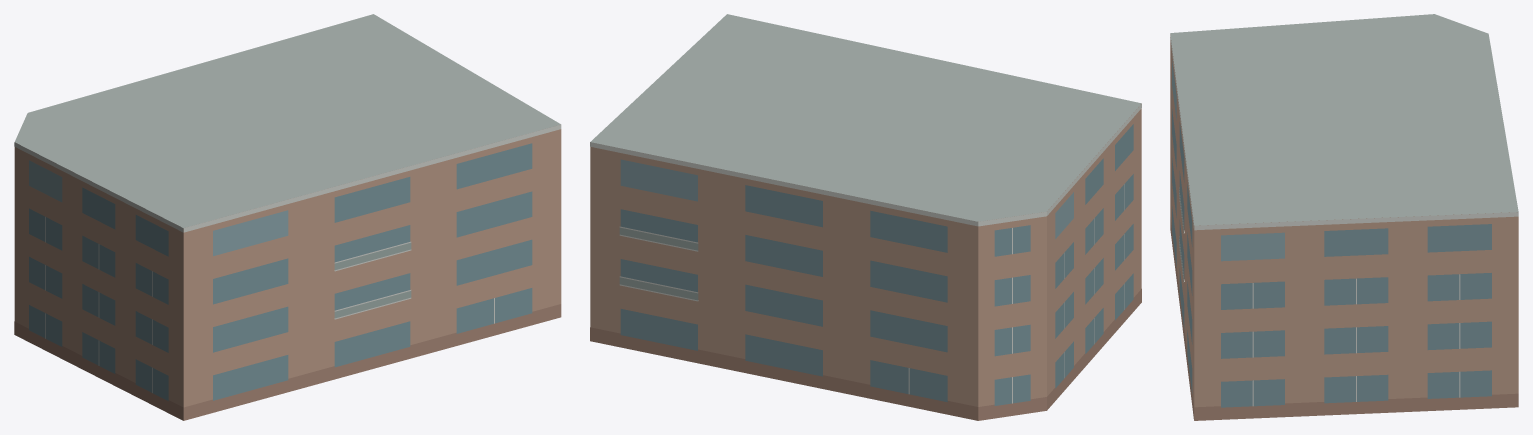
File: survey-upis-33021907.glb
3 views of the same model, side by side, from view 1: azimuth 30°, elevation 25°; view 2: azimuth 150°, elevation 25°; view 3: azimuth 270°, elevation 25° (orthographic). The views are drawn at different scales.
Parts seen in each view (by area): view 1: survey-upis-33021907.tmp; view 2: survey-upis-33021907.tmp; view 3: survey-upis-33021907.tmp.
Boxes of the visible parts, box(x1,y1,x2,y2) form: survey-upis-33021907.tmp: box(14, 14, 561, 420); survey-upis-33021907.tmp: box(590, 14, 1141, 420); survey-upis-33021907.tmp: box(1170, 14, 1518, 420).
Bounding box in the file's own units: 24.19 × 10.4 × 16.83.
